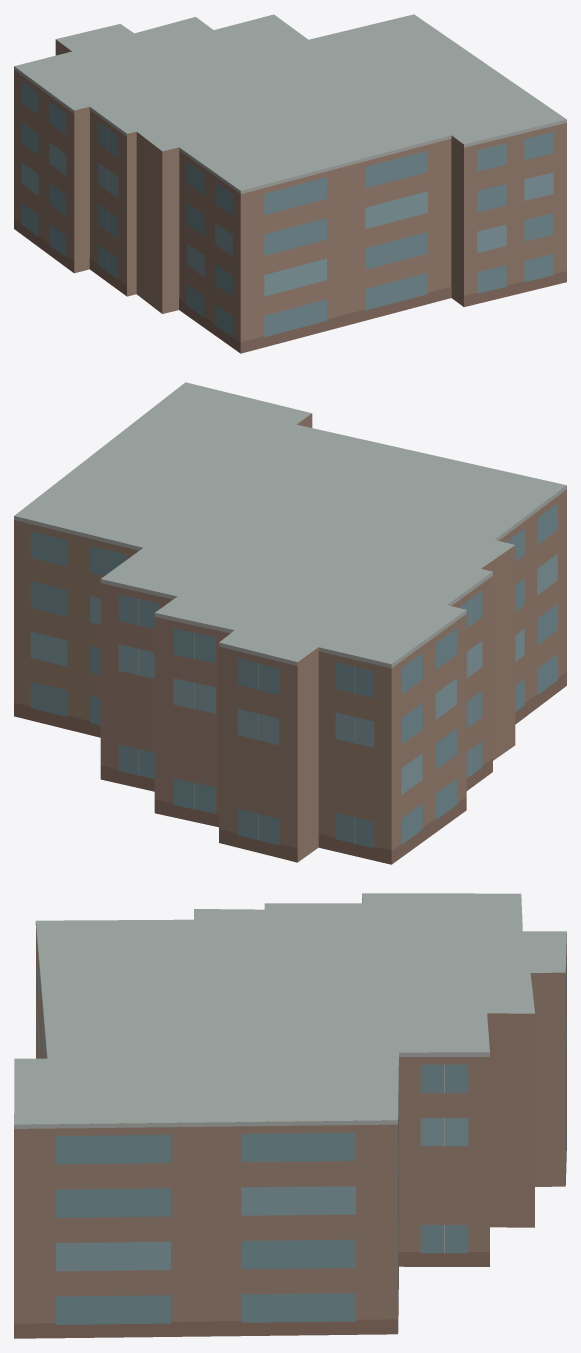
The model's file is survey-upis-32862301.glb.
3 renders of one model, top to bottom at view 1: azimuth 30°, elevation 25°; view 2: azimuth 150°, elevation 25°; view 3: azimuth 270°, elevation 25°, orthographic. The views are drawn at different scales.
Visible parts, largest first — view 1: survey-upis-32862301.tmp; view 2: survey-upis-32862301.tmp; view 3: survey-upis-32862301.tmp.
Boxes of the visible parts, x1,y1,x2,y2 form: survey-upis-32862301.tmp: [14, 14, 566, 353]; survey-upis-32862301.tmp: [14, 382, 566, 864]; survey-upis-32862301.tmp: [14, 893, 566, 1338].
Size of the model in its own units: 28.07 by 12.1 by 28.34.
